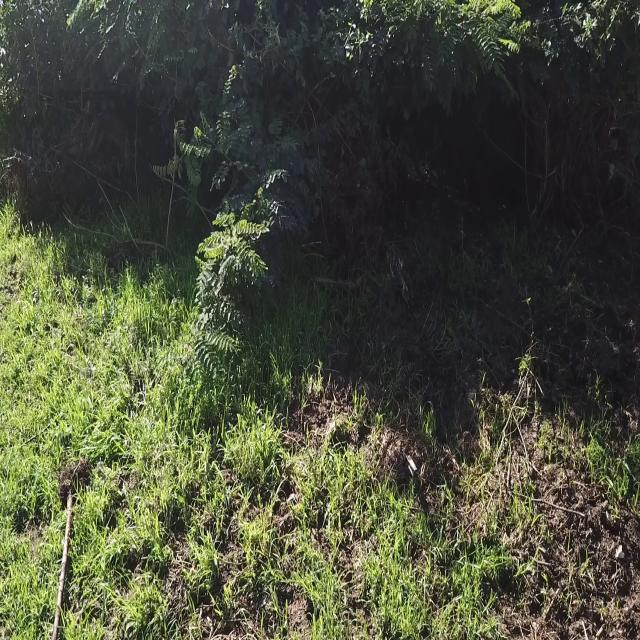Mysore-Thorn-Weed: (154, 70, 327, 208), (183, 193, 294, 393), (413, 0, 526, 86)
